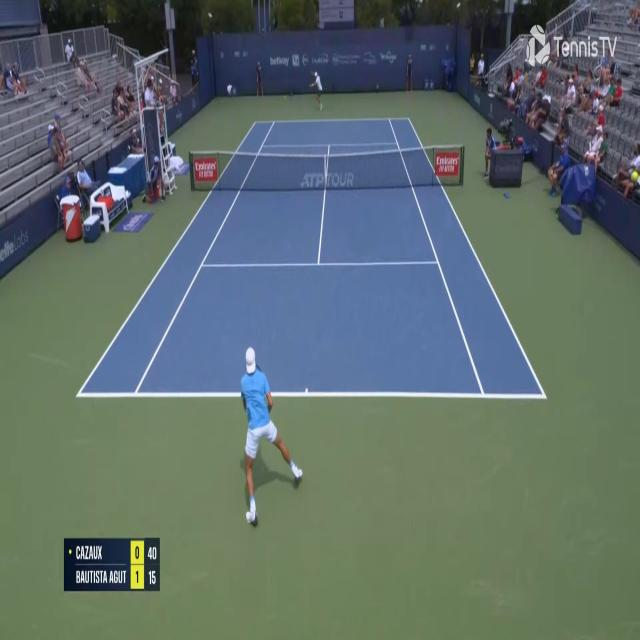tennis-player: (236, 342, 307, 527), (308, 70, 324, 112)
